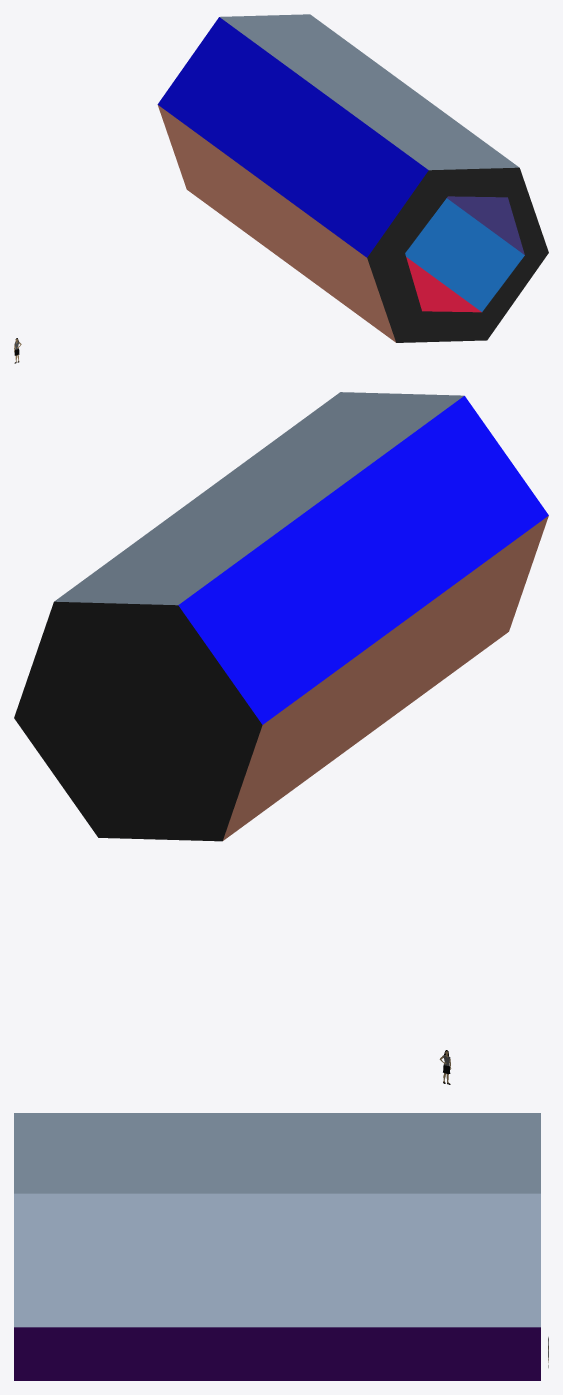
Rendered from mod.dae.
3 renders of one model, top to bottom at view 1: azimuth 30°, elevation 25°; view 2: azimuth 150°, elevation 25°; view 3: azimuth 270°, elevation 25°, orthographic. The views are drawn at different scales.
Visible parts, largest first — view 1: SketchUp (×7); view 2: SketchUp (×5); view 3: SketchUp (×3).
Part boxes in pixels (left/top/right/bottom): SketchUp (×7): left=157, top=14, right=548, bottom=342; SketchUp (×5): left=14, top=392, right=548, bottom=841; SketchUp (×3): left=14, top=1113, right=540, bottom=1380.
Size of the model in its own units: 894 by 1020 by 793.
